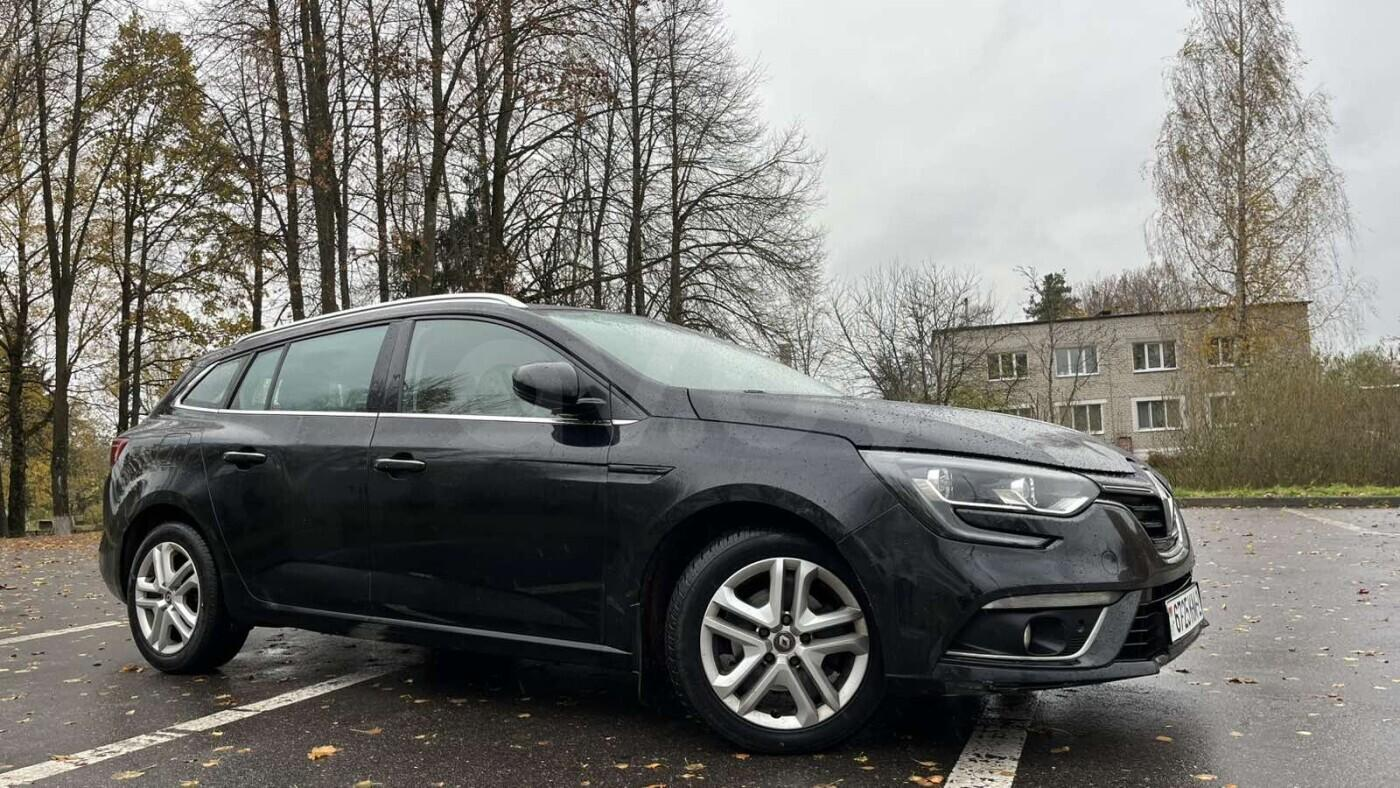Megane_2016-2020: (101, 297, 1213, 742)
